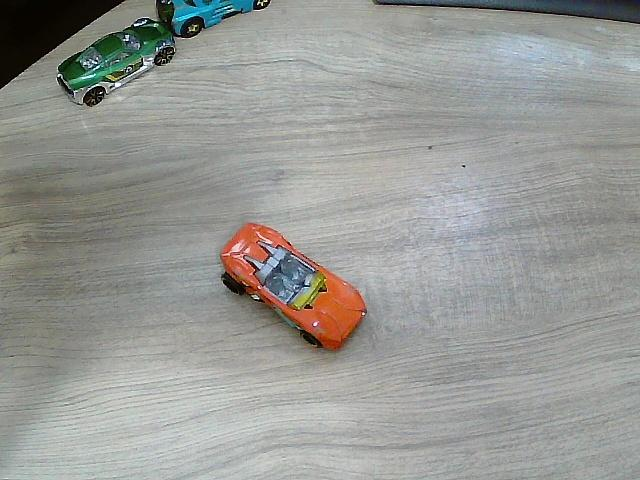Carro: (220, 224, 367, 351), (57, 14, 178, 107), (162, 0, 273, 39)
